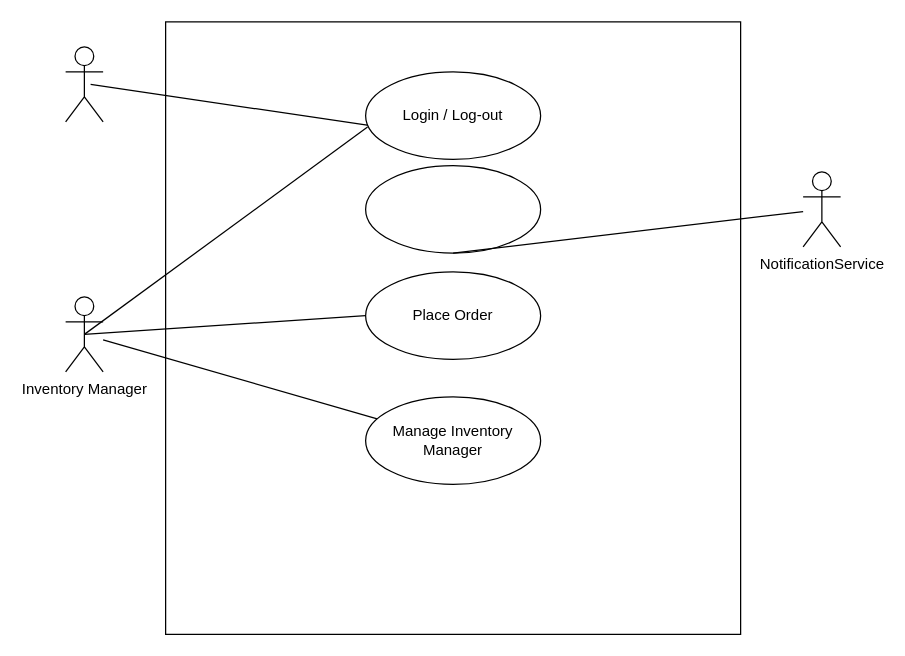
Image size: 905x656. Some labels were removed from this diagram. Here are the shapes that lost their labels. From the top down, the box of each, then its label:
(64, 46, 103, 122): Admin
(364, 164, 541, 253): Send Notification
